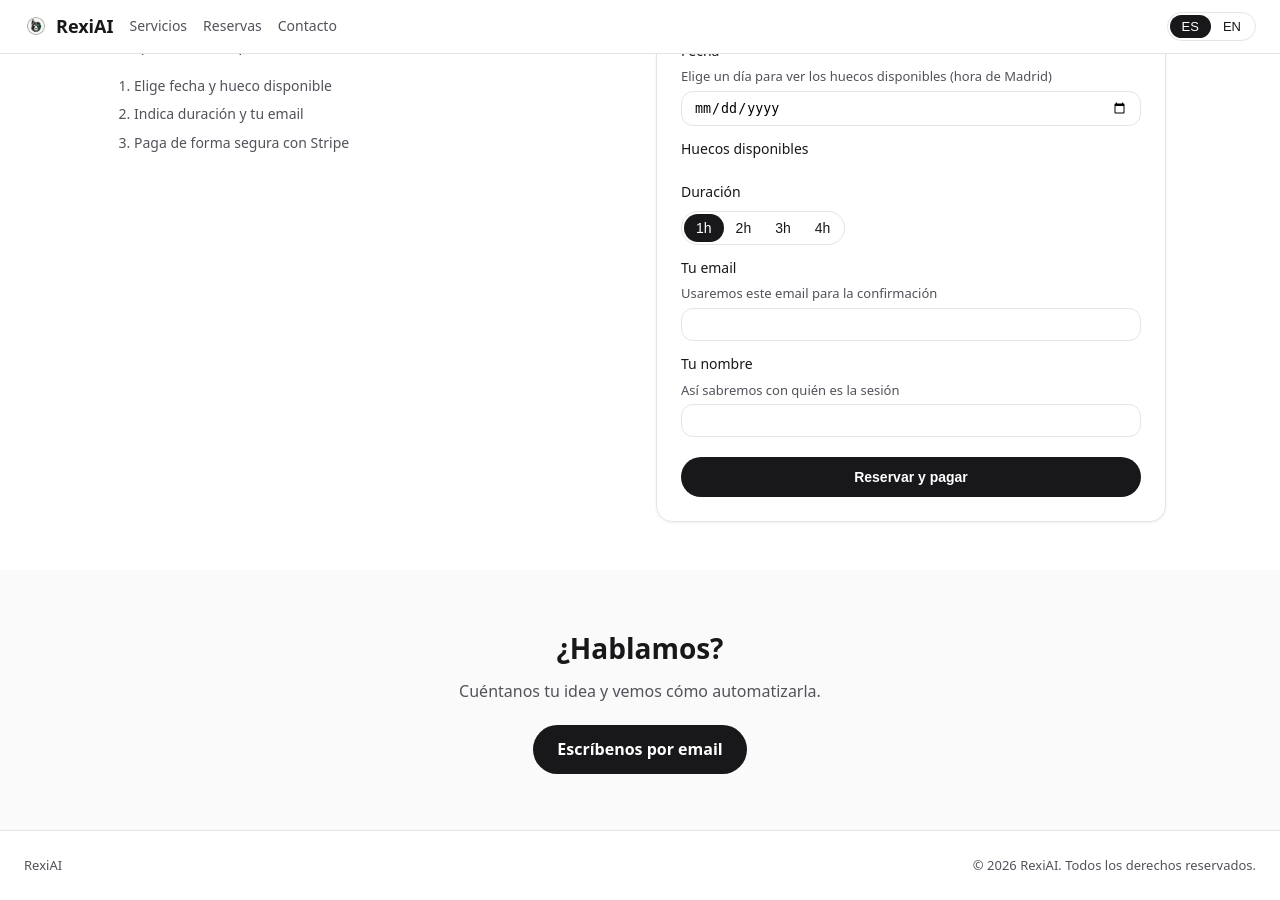
Test: AC-011 › AC-011-06: Missing required fields block submission
(page scrolled)
Click the button "Reservar y pagar": click(911, 478) [681,458,1141,498]
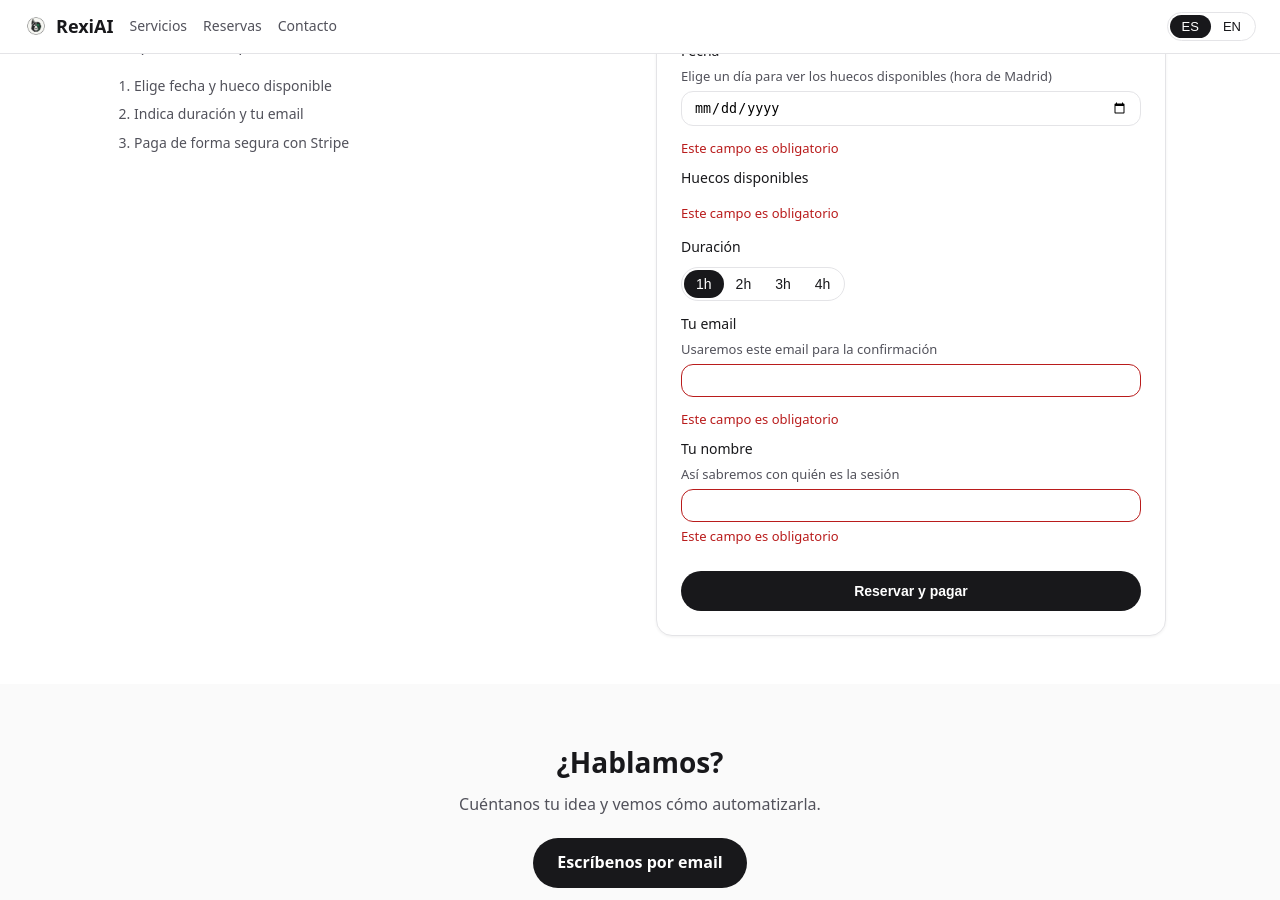
Expected: the 1st text "Este campo es obligatorio" is shown, [681,139,839,157]
